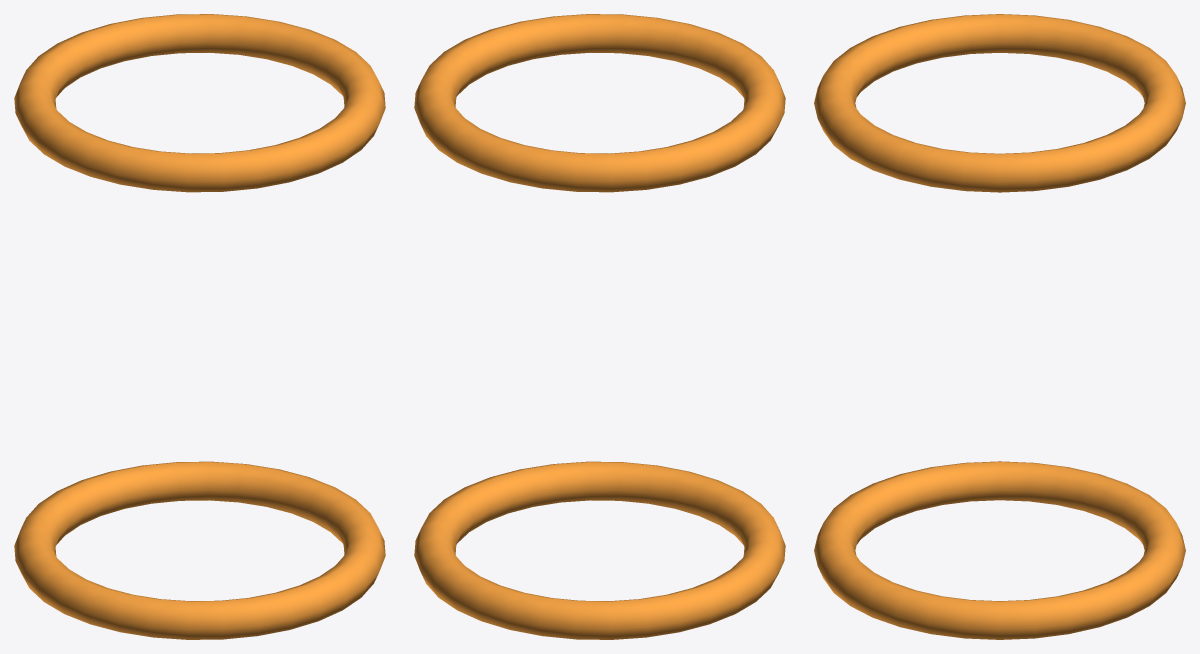
File: MM_Capsule__Orange.fbx
The picture shows the model from 3 angles, left to right: view 1: azimuth 30°, elevation 25°; view 2: azimuth 150°, elevation 25°; view 3: azimuth 270°, elevation 25°; orthographic projection.
Visible parts, largest first — view 1: MM_Capsule__Orange; view 2: MM_Capsule__Orange; view 3: MM_Capsule__Orange.
Part boxes in pixels (x1=…): MM_Capsule__Orange: x1=14, y1=14, x2=385, y2=639; MM_Capsule__Orange: x1=414, y1=14, x2=785, y2=639; MM_Capsule__Orange: x1=814, y1=14, x2=1185, y2=639.
Size of the model in its own units: 162 by 233 by 162.
